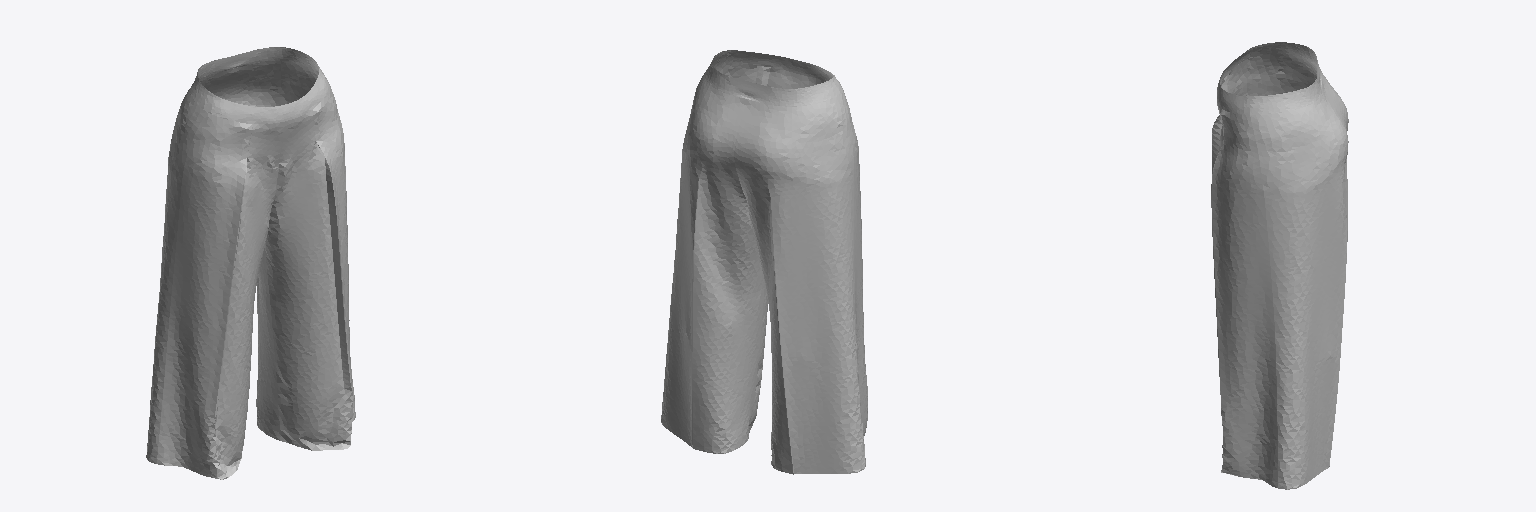
The model's file is Small_Short.obj.
The picture shows the model from 3 angles: view 1: azimuth 30°, elevation 25°; view 2: azimuth 150°, elevation 25°; view 3: azimuth 270°, elevation 25°; orthographic projection.
Visible parts, largest first — view 1: changku.006; view 2: changku.006; view 3: changku.006.
Part boxes in pixels (left/top/right/bottom): changku.006: left=146, top=47, right=355, bottom=479; changku.006: left=661, top=50, right=867, bottom=474; changku.006: left=1211, top=42, right=1348, bottom=489.
Size of the model in its own units: 0.4894 by 0.8653 by 0.2851.